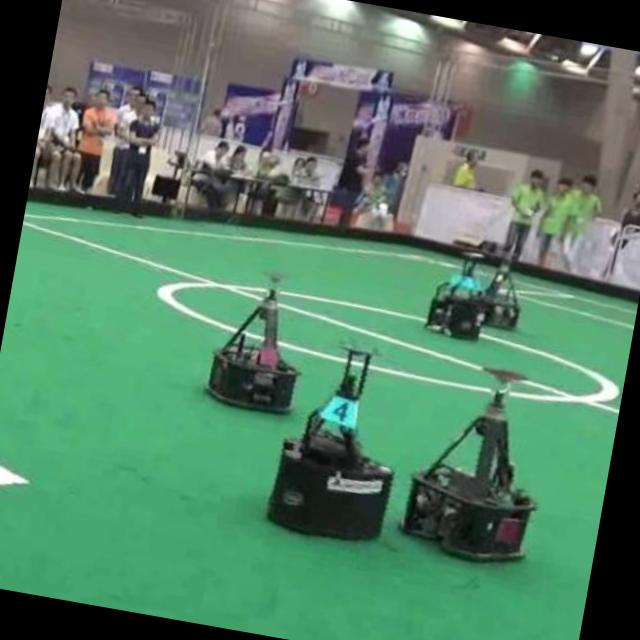robot: (400, 367, 536, 560), (270, 349, 392, 539), (207, 274, 298, 410), (425, 253, 485, 340), (482, 251, 520, 329)
